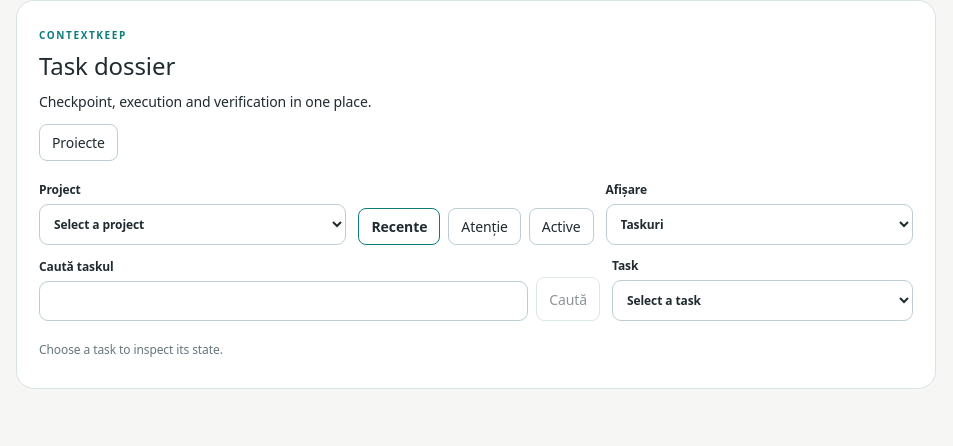
Test: shared task dossier › distinguishes failed task loading from an empty project and recovers on selection
Select "Unavailable project" in the dropdown labelled "Project": point(193, 224) [39,204,346,245]
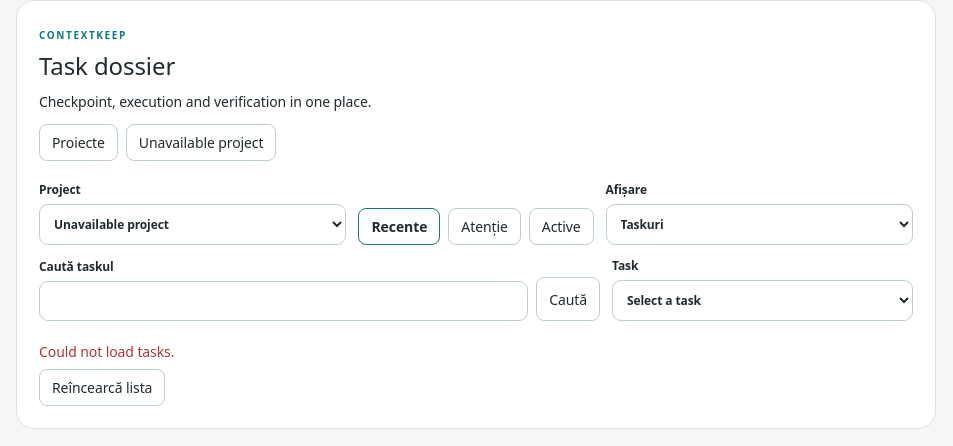
Expected: the text "No matching tasks. Try another search or view all actions." is not shown
Result: the message "Could not load tasks." is shown at [39,342,174,361]
Select "Empty project" in the dropdown labelled "Project": point(193, 224) [39,204,346,245]
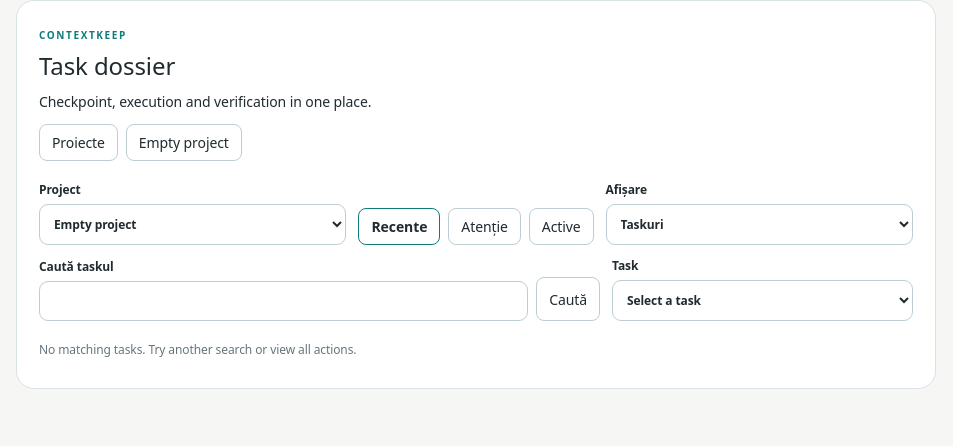
Result: the text "No matching tasks. Try another search or view all actions." is shown at [39,341,356,358]
Result: the message "Could not load tasks." is gone
